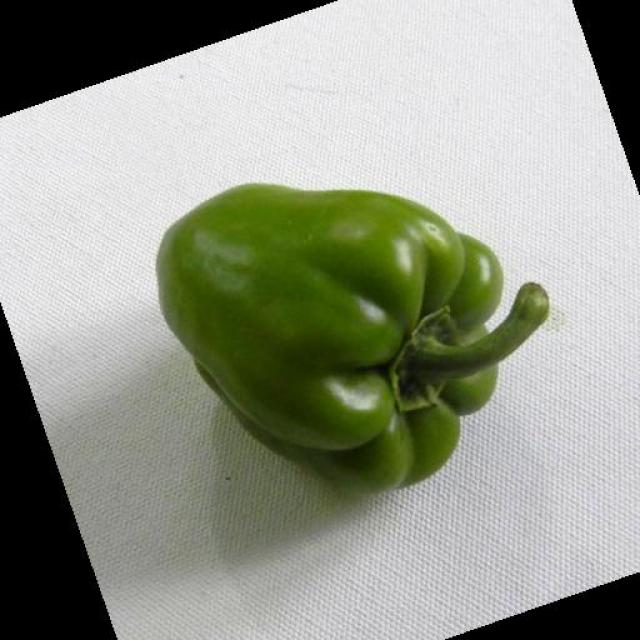Fresh_Capsicum: (117, 181, 533, 474)
